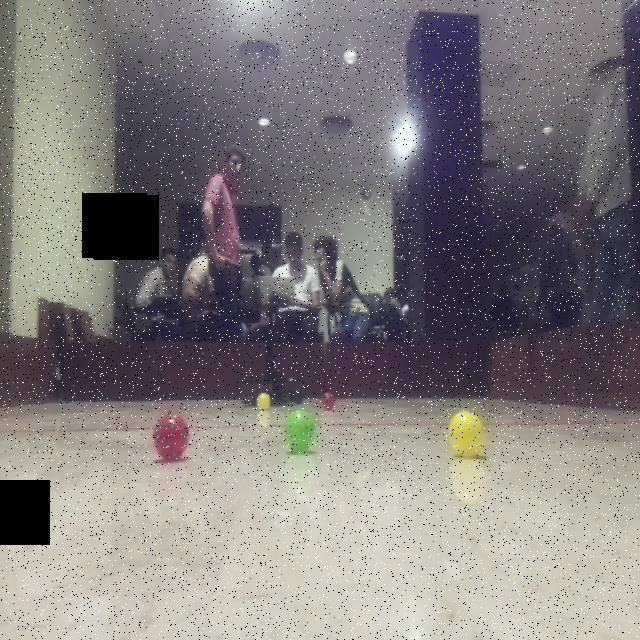ball: (445, 406, 490, 459), (153, 409, 192, 462), (283, 404, 318, 452), (315, 388, 342, 411), (253, 390, 274, 412)
